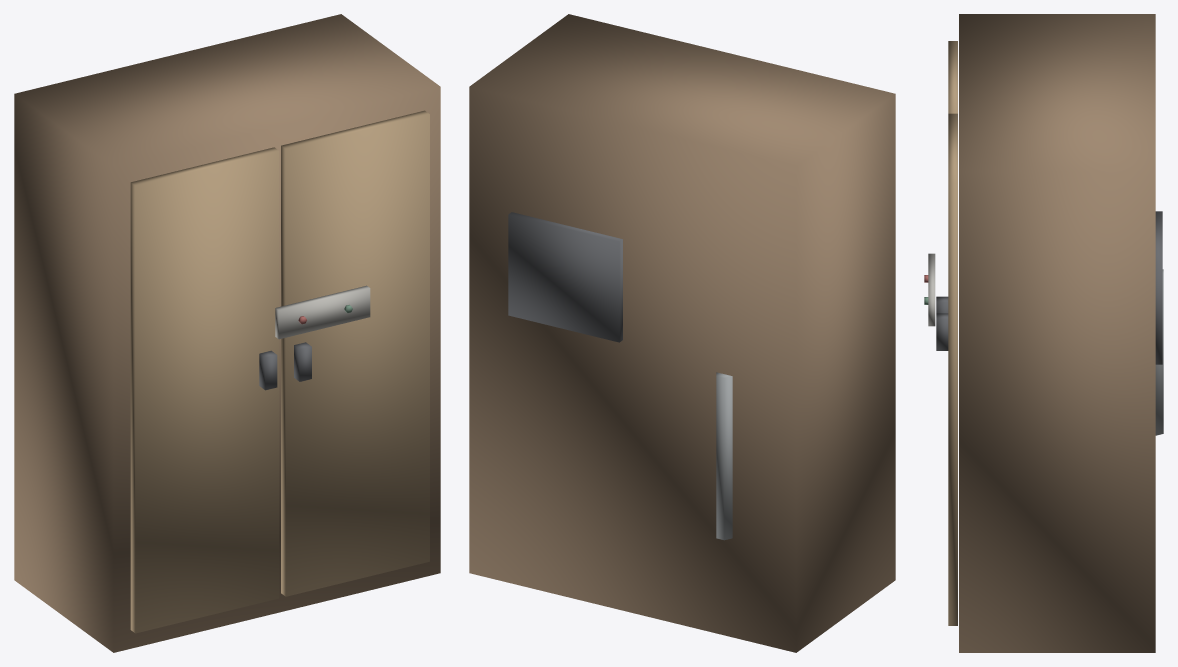
The model's file is cupboard__service.glb.
The picture shows the model from 3 angles, left to right: view 1: azimuth 30°, elevation 25°; view 2: azimuth 150°, elevation 25°; view 3: azimuth 270°, elevation 25°; orthographic projection.
Parts seen in each view (by area): view 1: world; view 2: world; view 3: world.
Boxes of the visible parts, <box> form: world: <box>14,14,440,652</box>; world: <box>469,14,895,652</box>; world: <box>924,14,1163,652</box>.
Size of the model in its own units: 0.95 by 1.35 by 0.6091.
